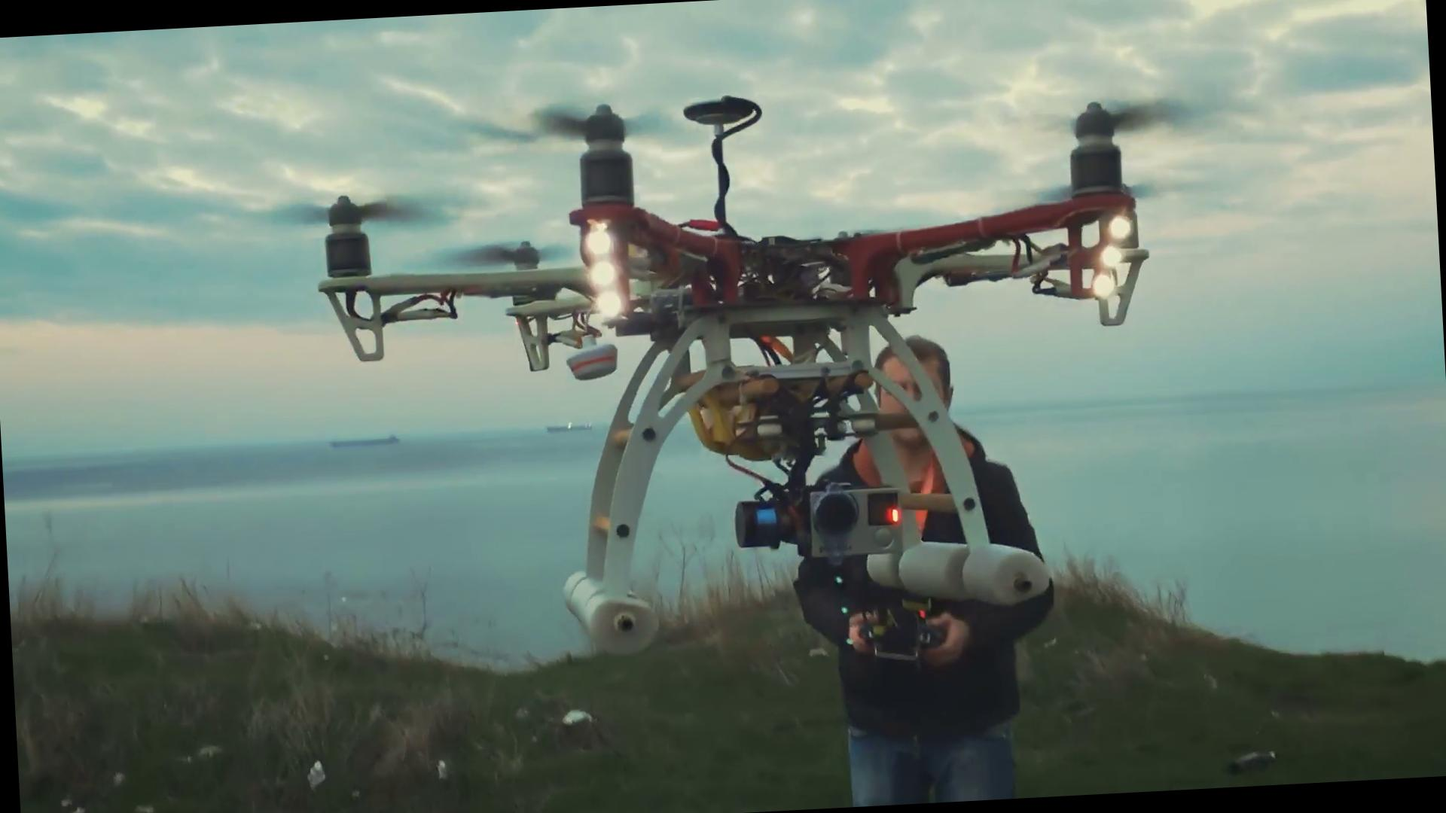drone: (246, 56, 1245, 480)
